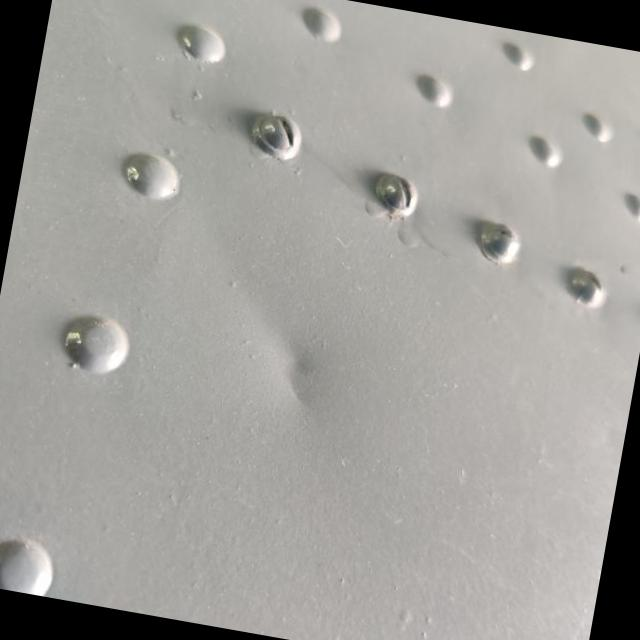Dent: (234, 315, 352, 450)
